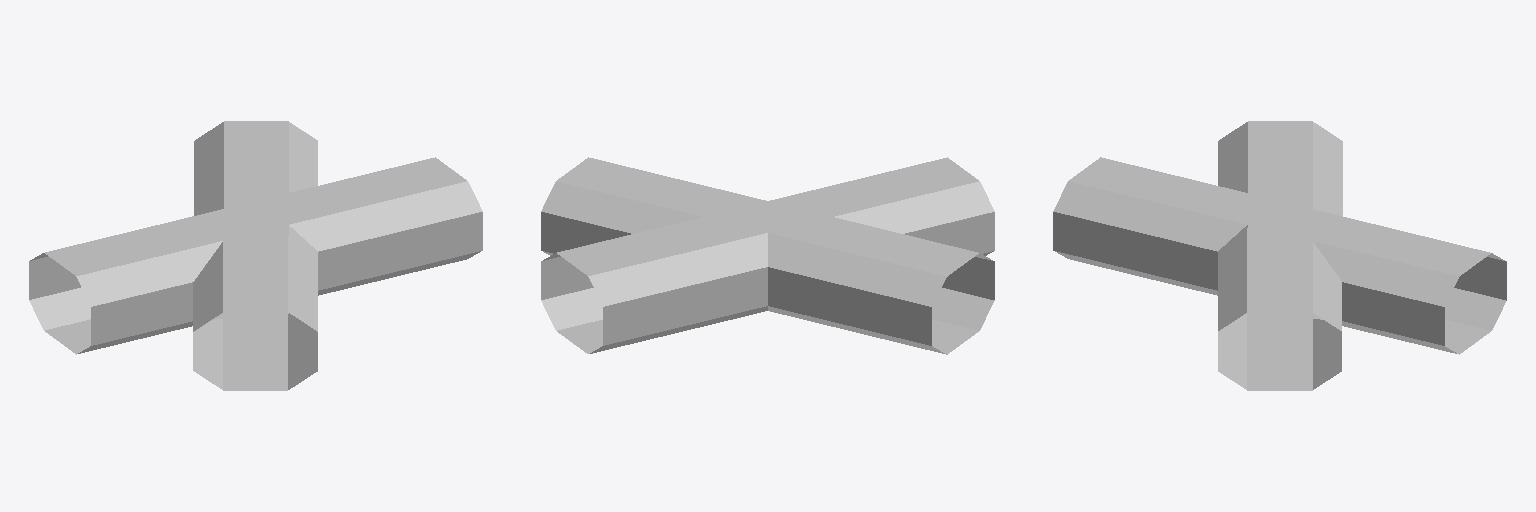
File: Block42.obj
3 views of the same model, side by side, from view 1: azimuth 30°, elevation 25°; view 2: azimuth 150°, elevation 25°; view 3: azimuth 270°, elevation 25° (orthographic).
Visible parts, largest first — view 1: Block42.001_Cylinder.023; view 2: Block42.001_Cylinder.023; view 3: Block42.001_Cylinder.023.
Boxes of the visible parts, box(x1,y1,x2,y2) form: Block42.001_Cylinder.023: box(29, 121, 482, 390); Block42.001_Cylinder.023: box(541, 157, 994, 354); Block42.001_Cylinder.023: box(1053, 121, 1506, 390).
Bounding box in the file's own units: 1.73 × 0.3302 × 1.74.